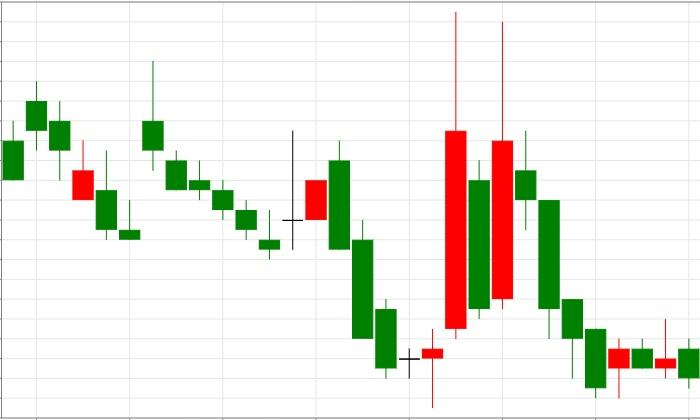bearish_engulfing_fall: (258, 130, 351, 261)
three_black_crows_fall: (421, 12, 584, 408)
